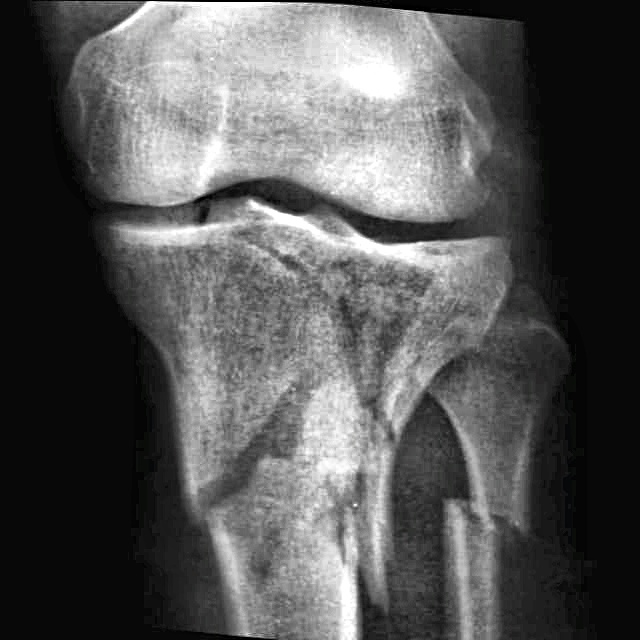Oblique Displaced: (172, 361, 408, 601)
Transverse Displaced: (410, 470, 578, 563)
